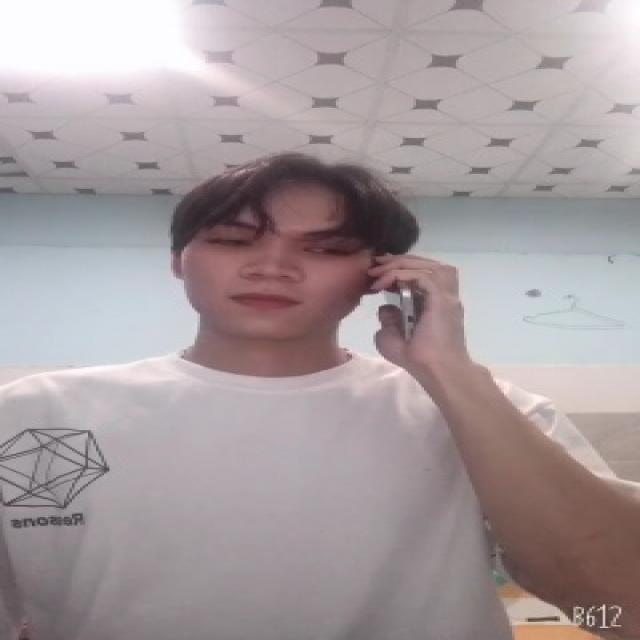Phone: (360, 252, 427, 352)
